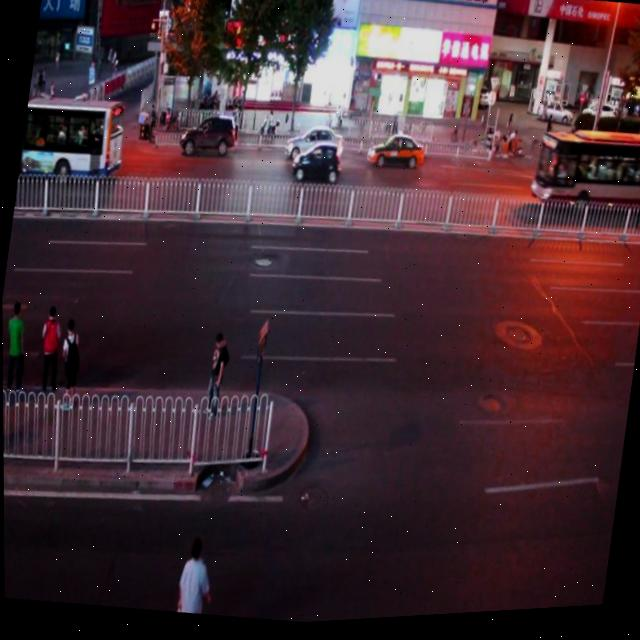car: (526, 125, 640, 230), (18, 87, 129, 192), (177, 109, 239, 162), (283, 124, 345, 172), (365, 133, 425, 179), (290, 142, 344, 190), (20, 122, 66, 166)
